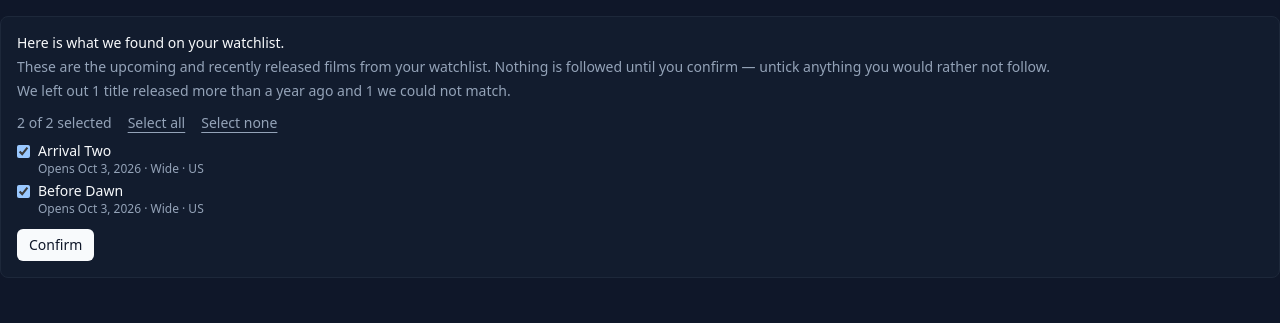
Test: ImportProgress › a job awaiting review (EF-22) › explains a 409 as the list having closed, not as a failure to retry
The image size is (1280, 323).
Click the button "Confirm": (56, 245) [17,229,94,261]
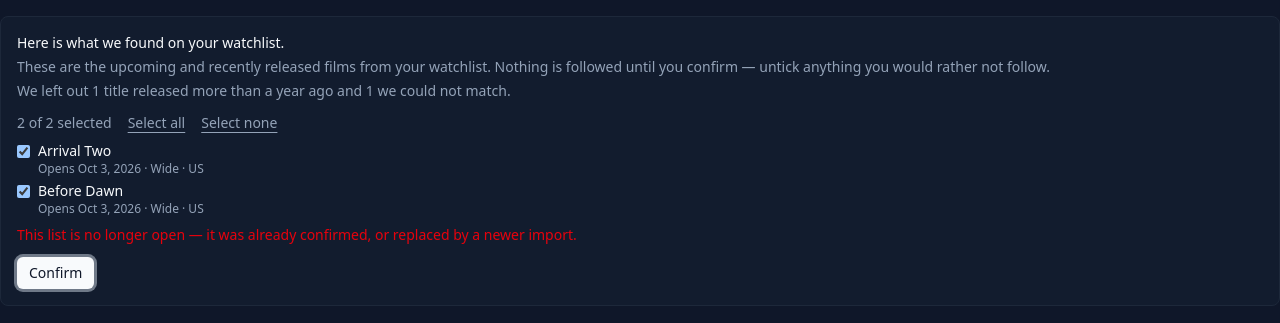
Now the message shows "no longer open", box [17,225,577,244]
